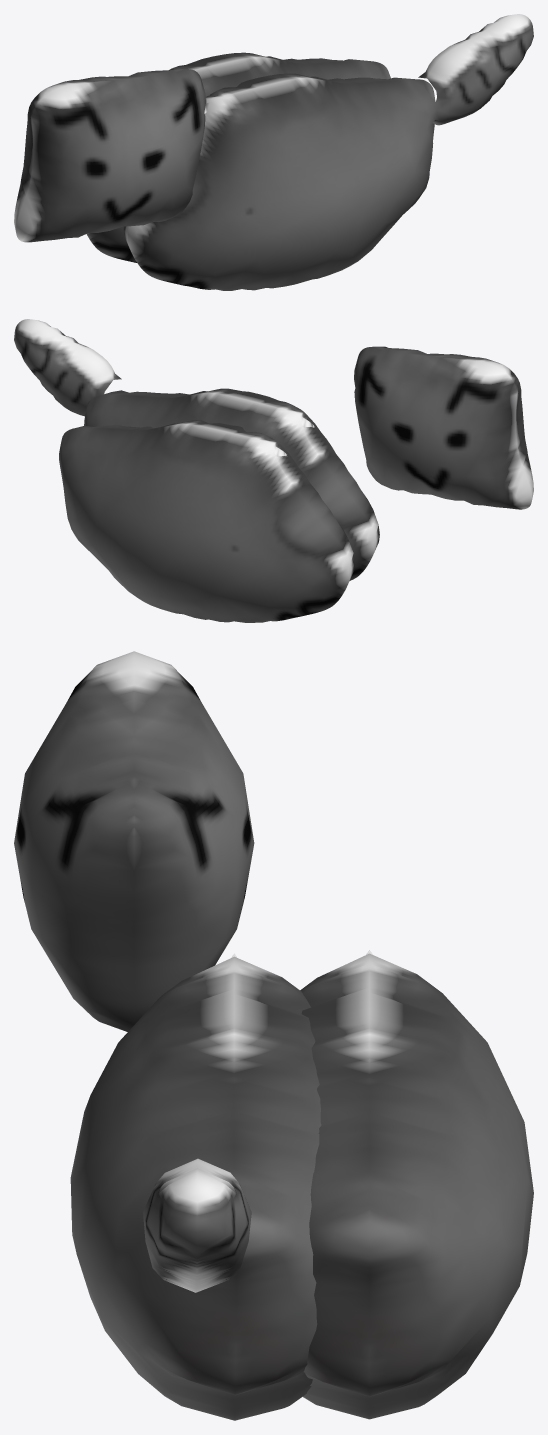
Rendered from asset.glb.
3 renders of one model, top to bottom at view 1: azimuth 30°, elevation 25°; view 2: azimuth 150°, elevation 25°; view 3: azimuth 270°, elevation 25°, orthographic. The views are drawn at different scales.
Bounding box in the file's own units: 1.93 × 0.9525 × 0.8904.
Materials: 1 (1 with a texture image).
